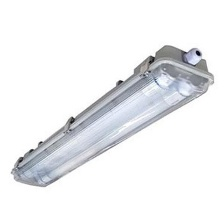light_bulb: (16, 70, 174, 181), (35, 82, 197, 186)
